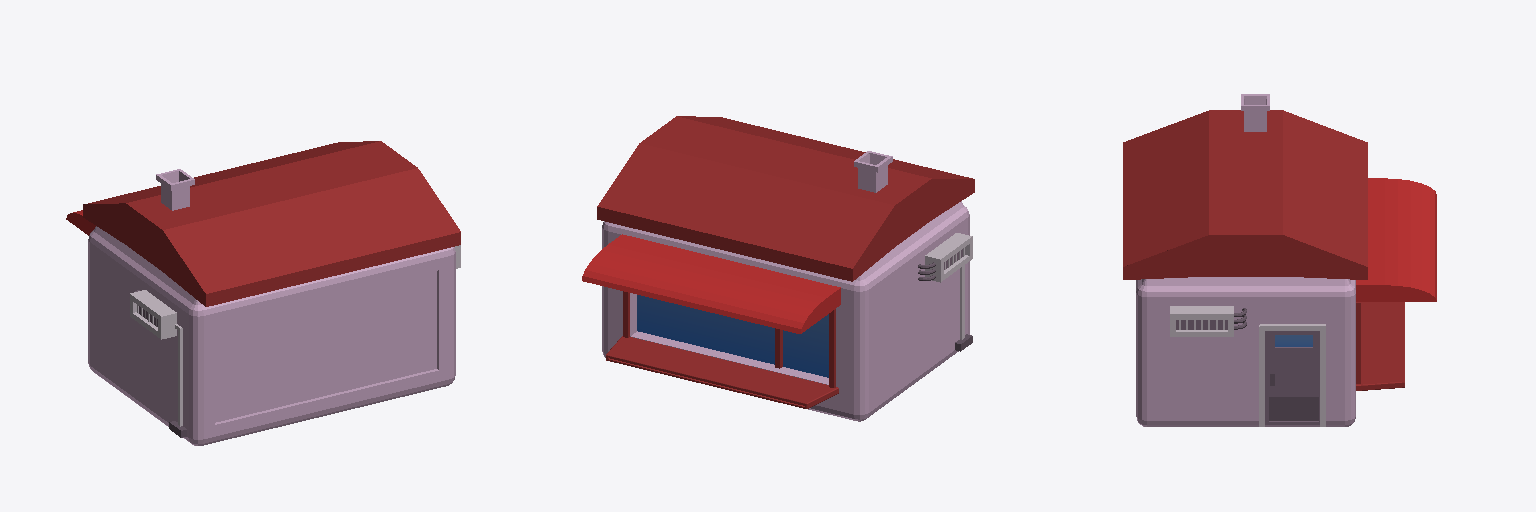
3 renders of one model, left to right at view 1: azimuth 30°, elevation 25°; view 2: azimuth 150°, elevation 25°; view 3: azimuth 270°, elevation 25°, orthographic.
Size of the model in its own units: 583 by 412 by 531.
Materials: 1 (1 with a texture image).